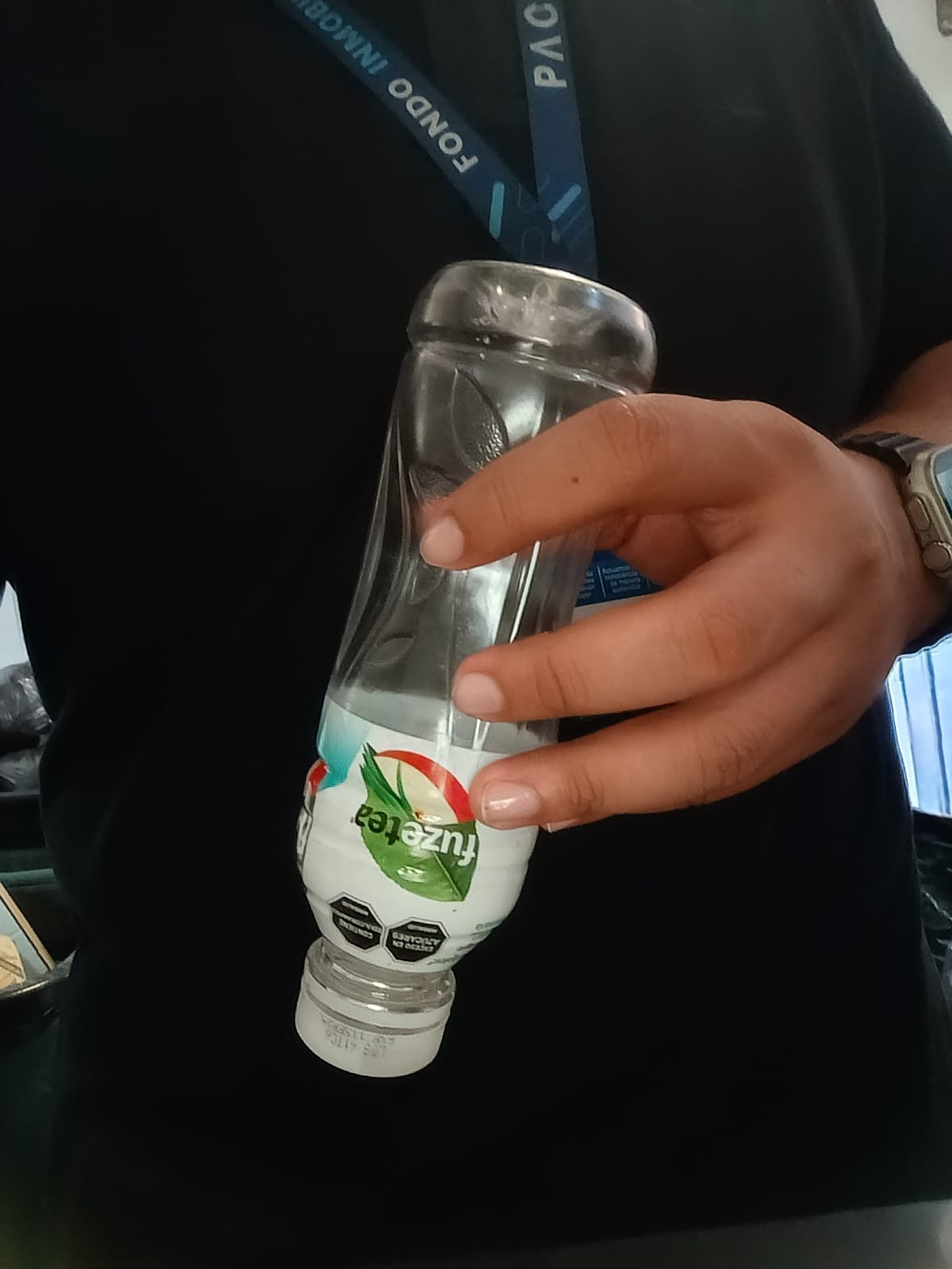Plastico: (292, 258, 660, 1078)
